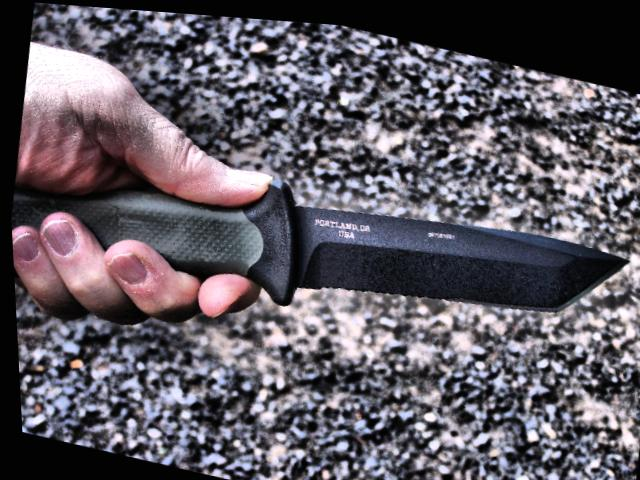knife: (4, 107, 640, 407)
